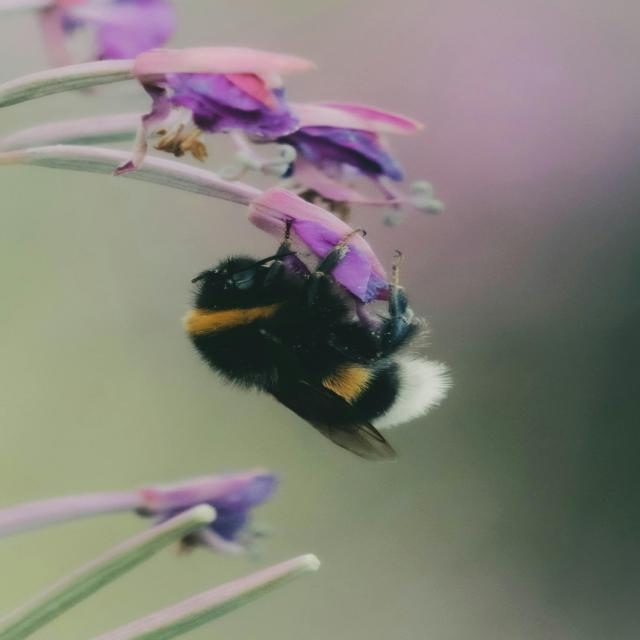bee: (176, 217, 456, 464)
